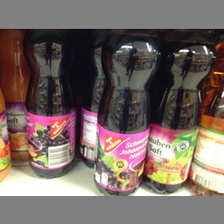juice: (91, 30, 161, 195), (147, 30, 215, 193), (22, 30, 77, 179)
